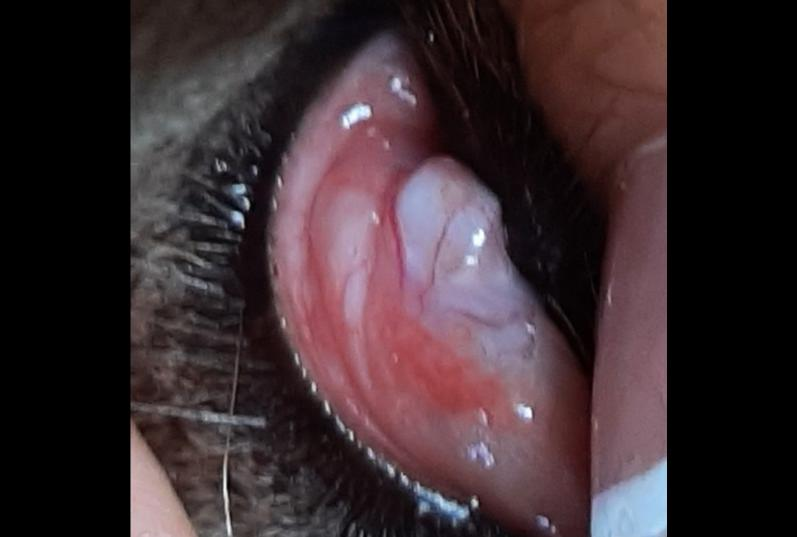eye_membrane: (276, 25, 589, 528)
